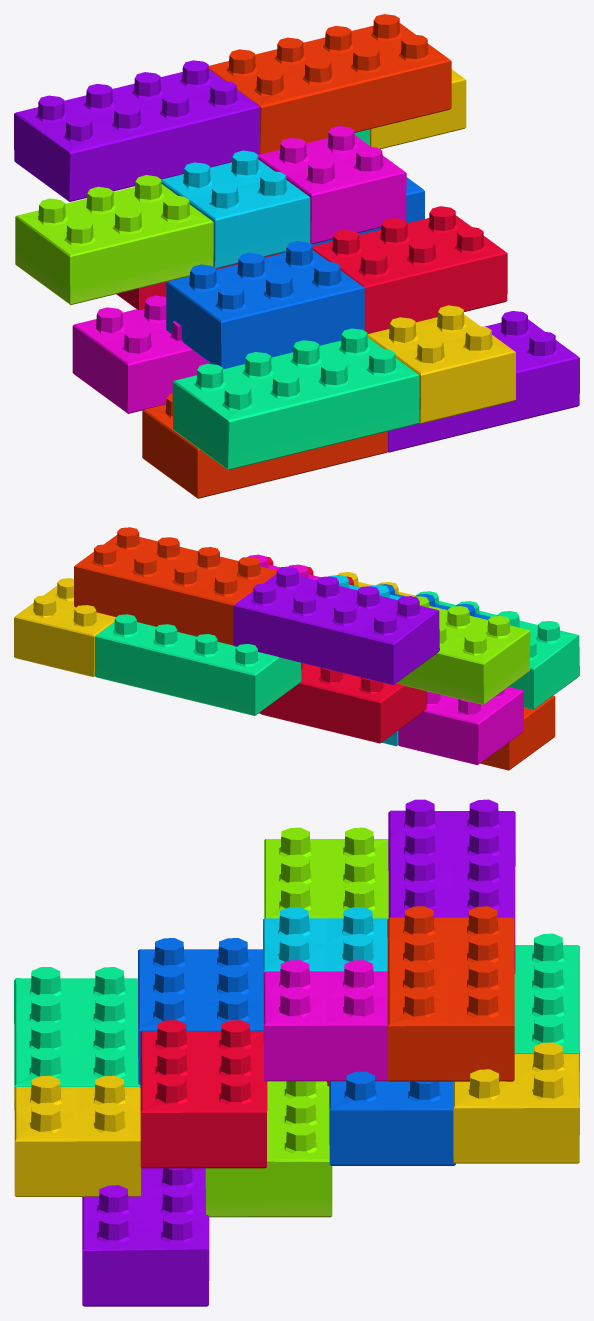
The model's file is legomerdiven.fbx.
3 renders of one model, top to bottom at view 1: azimuth 30°, elevation 25°; view 2: azimuth 150°, elevation 25°; view 3: azimuth 270°, elevation 25°, orthographic. The views are drawn at different scales.
Parts seen in each view (by area): view 1: Cube.011; view 2: Cube.011; view 3: Cube.011.
Part boxes in pixels (x1,y1,x2,y2): Cube.011: (14,14,579,498); Cube.011: (14,527,579,770); Cube.011: (14,799,579,1306).
Bounding box in the file's own units: 995 × 887 × 525.
